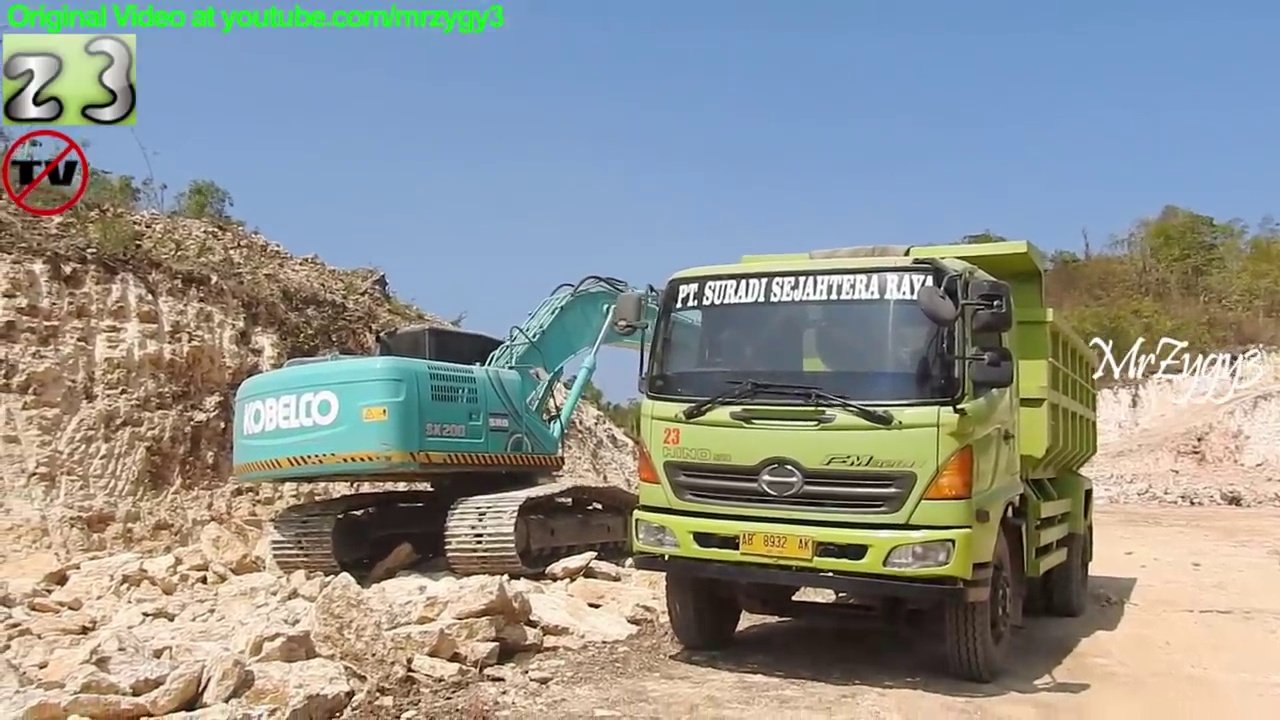excavator: (222, 268, 951, 588)
truck: (606, 231, 1109, 689)
